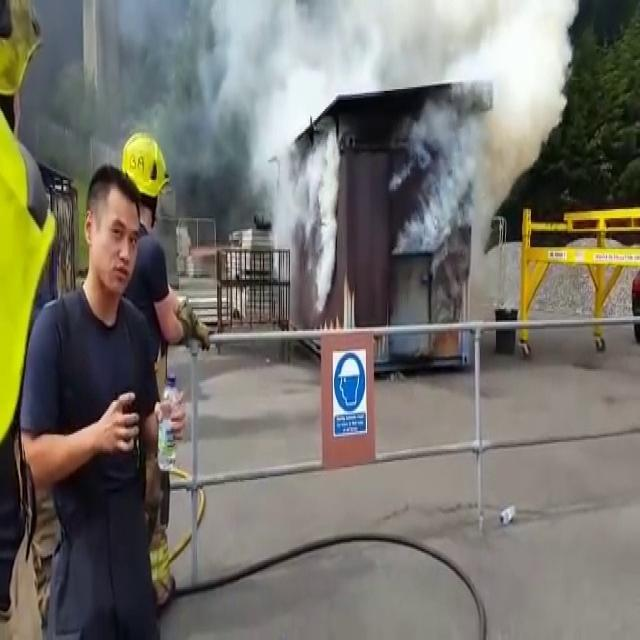Smoke: (260, 0, 572, 74), (470, 81, 547, 200), (279, 130, 333, 274)
